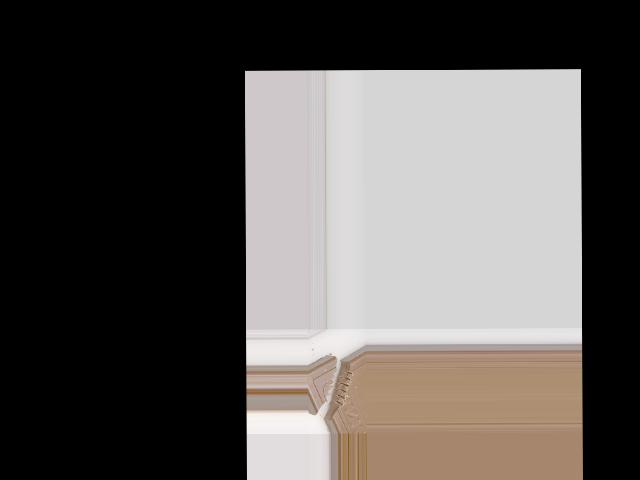chocolate: (307, 343, 365, 433)
